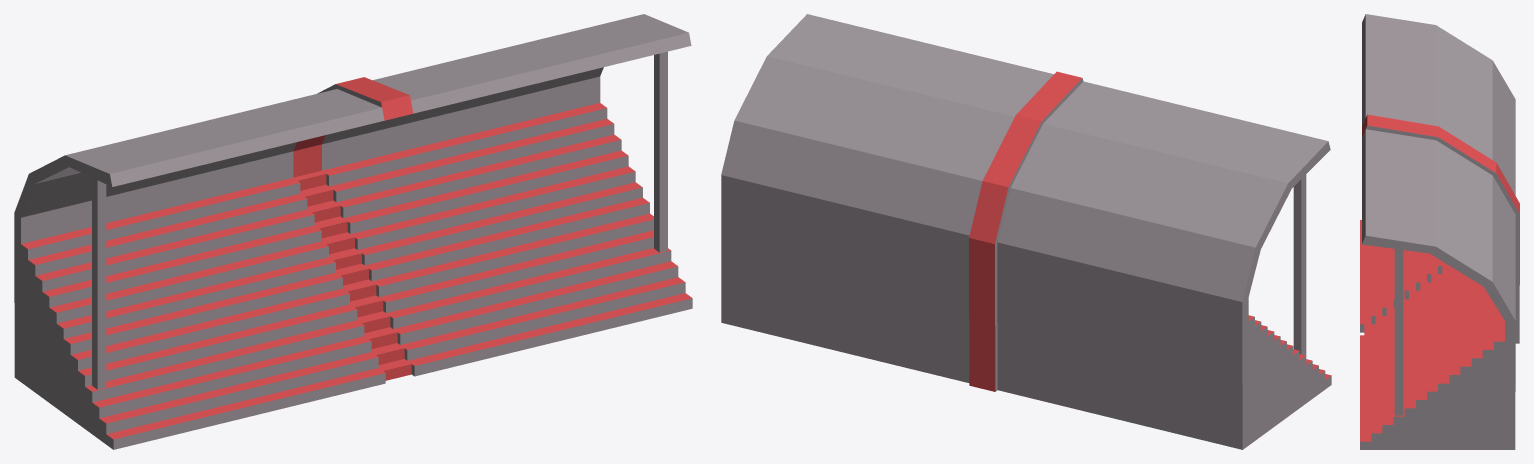
Rendered from Grand stand 1.fbx.
The picture shows the model from 3 angles, left to right: view 1: azimuth 30°, elevation 25°; view 2: azimuth 150°, elevation 25°; view 3: azimuth 270°, elevation 25°; orthographic projection. The views are drawn at different scales.
Parts seen in each view (by area): view 1: grand stand 1; view 2: grand stand 1; view 3: grand stand 1.
Boxes of the visible parts, box(x1,y1,x2,y2) form: grand stand 1: box(14, 14, 692, 449); grand stand 1: box(721, 14, 1331, 449); grand stand 1: box(1360, 14, 1519, 449).
Size of the model in its own units: 3244 by 1488 by 989.
